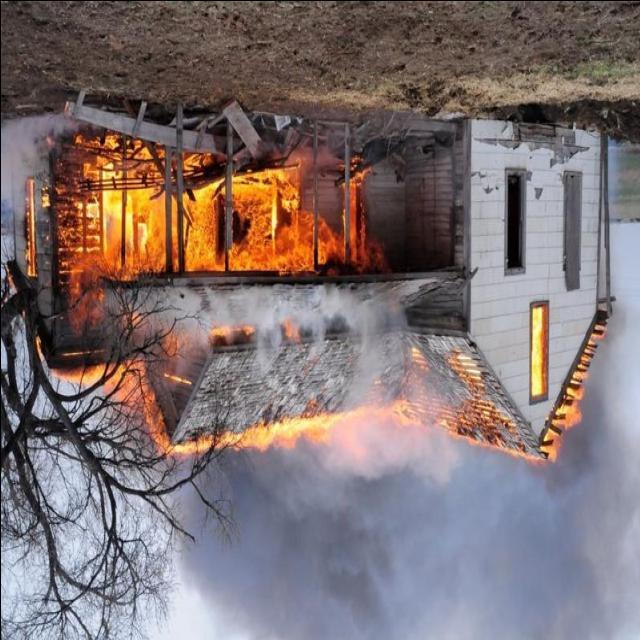Fire: (29, 132, 602, 460)
